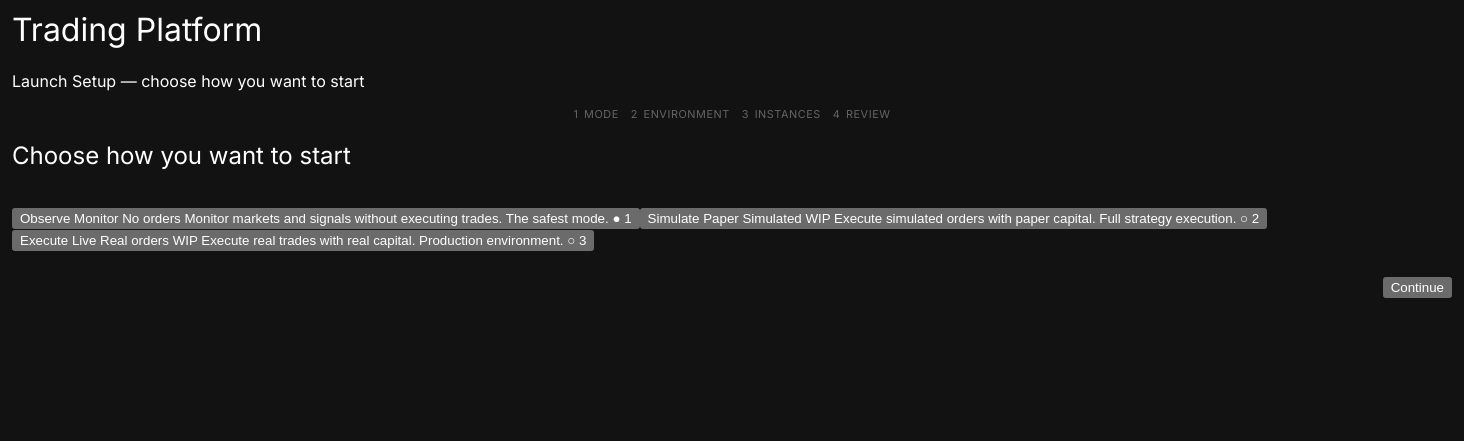
Test: Launch Setup — mode selection › simulate mode shows the capital field
What coordinates should you click on to do the following:
click the text "Simulate"
I would click on:
 (674, 219)
Its box is [648,211,700,226].
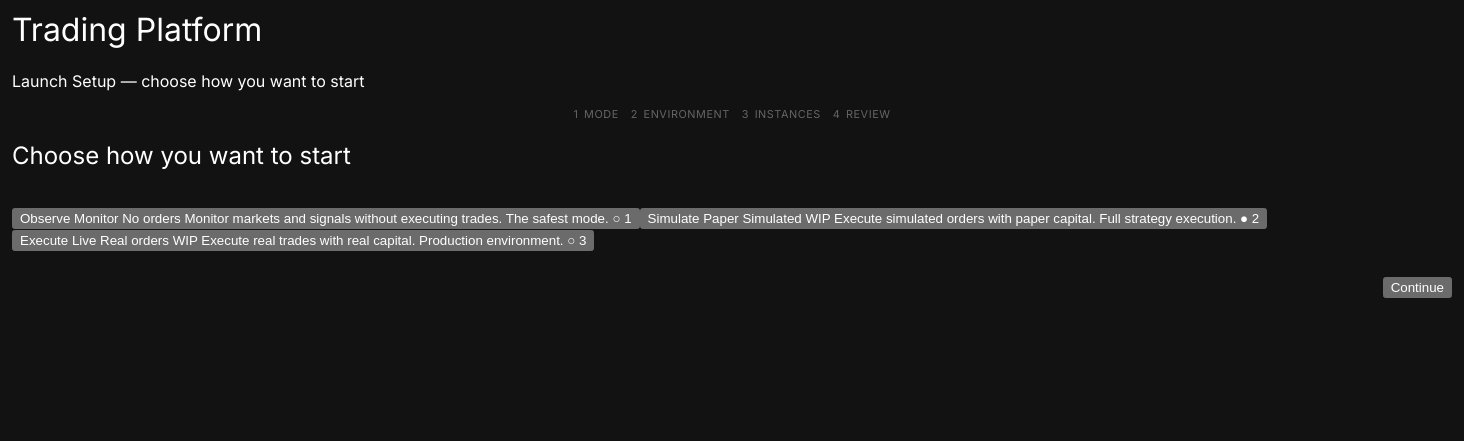
What coordinates should you click on to do the following:
click the button "Continue"
I would click on:
 (1417, 287)
Its box is [1383,277,1452,298].
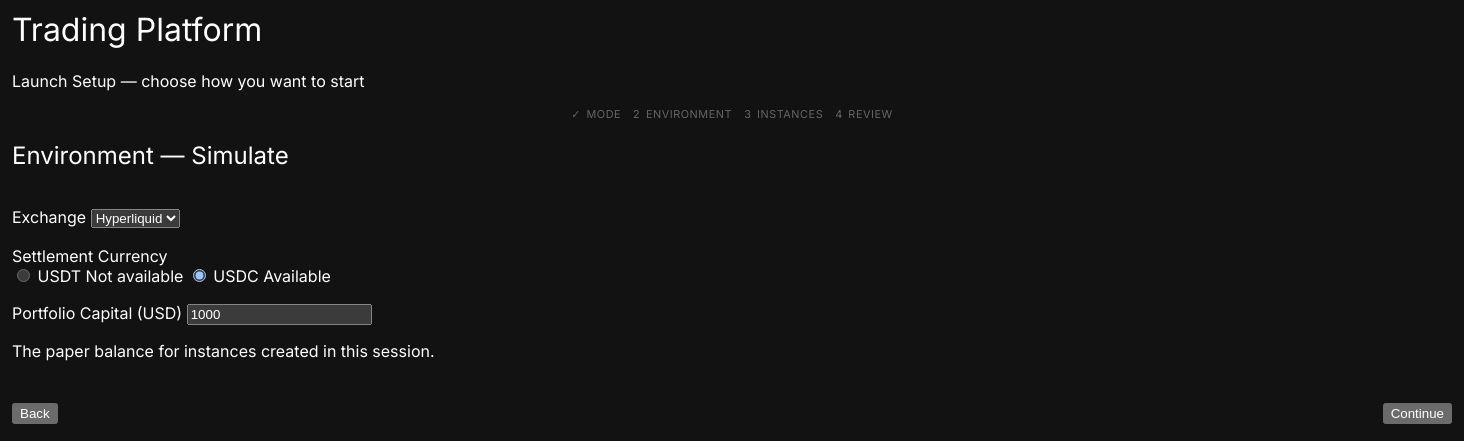
Expected: the number field with id "launch-capital" is shown, [187,304,372,326]
